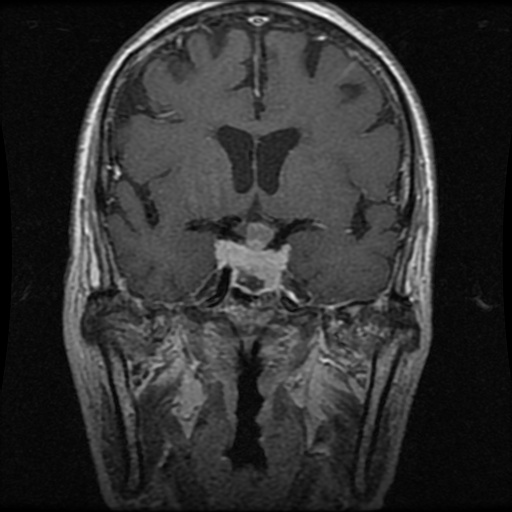pituitary: (211, 221, 291, 294)
